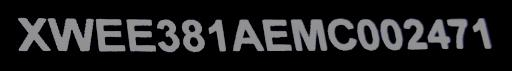letter: (46, 16, 94, 53), (289, 15, 329, 54), (14, 14, 52, 51), (93, 16, 127, 55), (230, 17, 266, 52), (260, 17, 294, 52), (326, 16, 358, 53), (125, 17, 157, 54), (426, 17, 454, 52), (469, 14, 495, 51), (180, 17, 206, 54), (355, 16, 381, 51), (378, 16, 404, 51), (402, 16, 428, 51), (155, 18, 181, 53), (446, 16, 470, 51), (206, 17, 228, 54)
